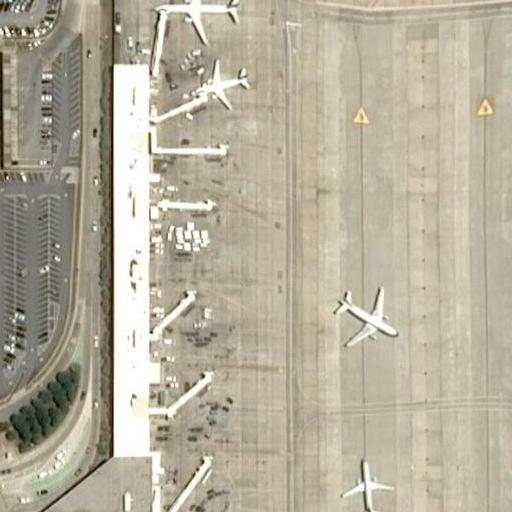Aircraft: (332, 280, 400, 347), (154, 0, 242, 42), (339, 454, 396, 512), (189, 56, 250, 108)
